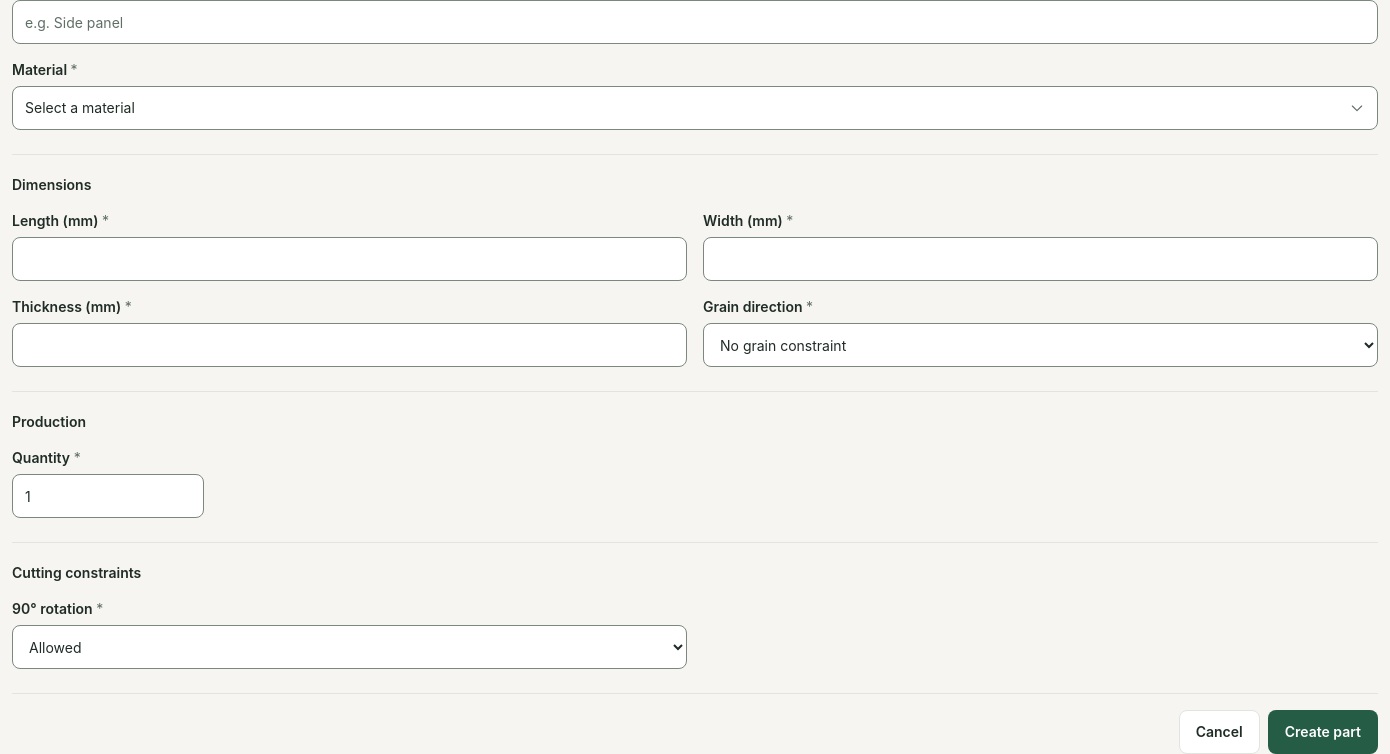
Test: Part form grain and rotation controls › groups dimensions and retains the independent rotation preference during create
(page scrolled)
Expected: the heading "Dimensions" is shown, [12,176,91,193]
Expected: the heading "Cutting constraints" is shown, [12,564,141,581]
Select "Not allowed" in the dropdown labelled "90° rotation *" at (350, 647), box [12,625,687,669]
Select "Along length" in the dropdown labelled "Grain direction *" at (1040, 345), box [703,323,1378,367]
(page scrolled)
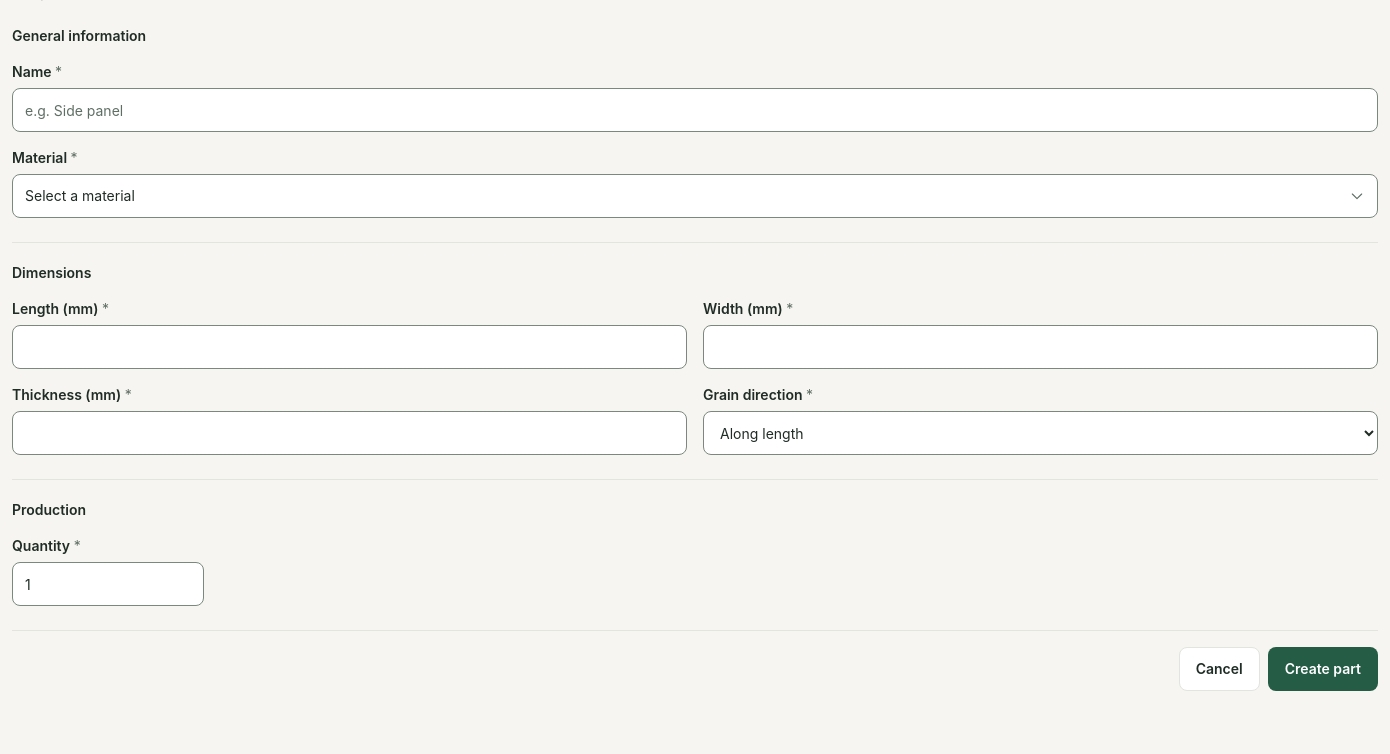
Result: the text "Cutting constraints" is gone
Select "Along width" in the dropdown labelled "Grain direction *" at (1040, 433), box [703,411,1378,455]
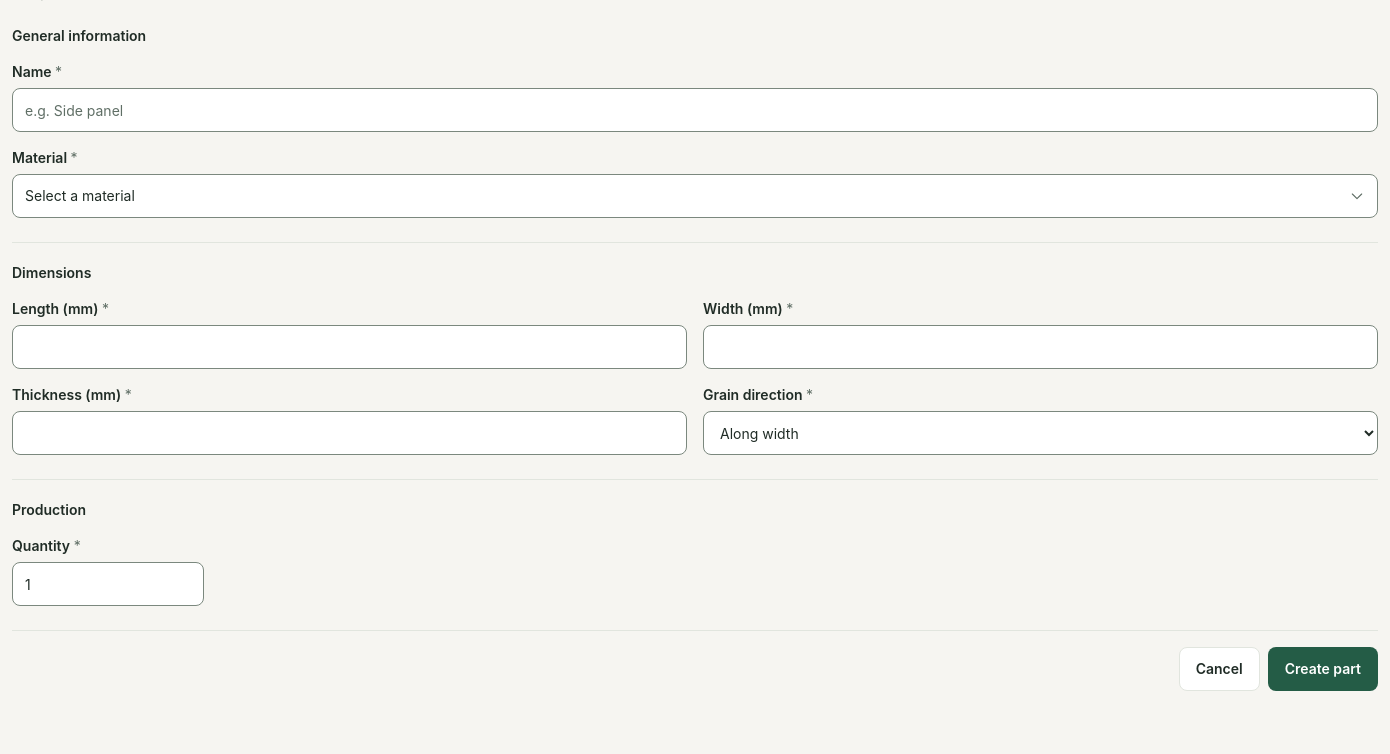
Expected: the text "Cutting constraints" is not shown
Select "No grain constraint" in the dropdown labelled "Grain direction *" at (1040, 433), box [703,411,1378,455]
(page scrolled)
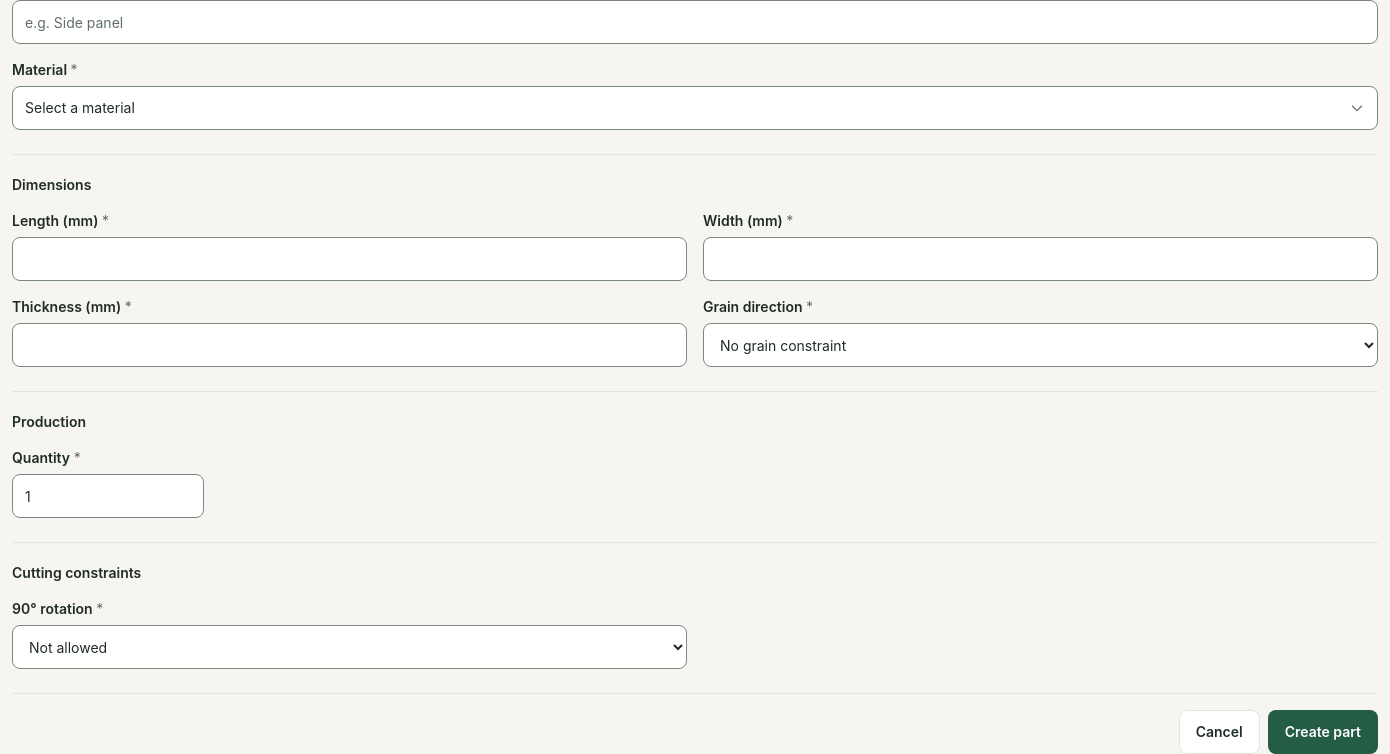
Result: the dropdown labelled "90° rotation *" shows "Not allowed"
Select "Allowed" in the dropdown labelled "90° rotation *" at (350, 647), box [12,625,687,669]
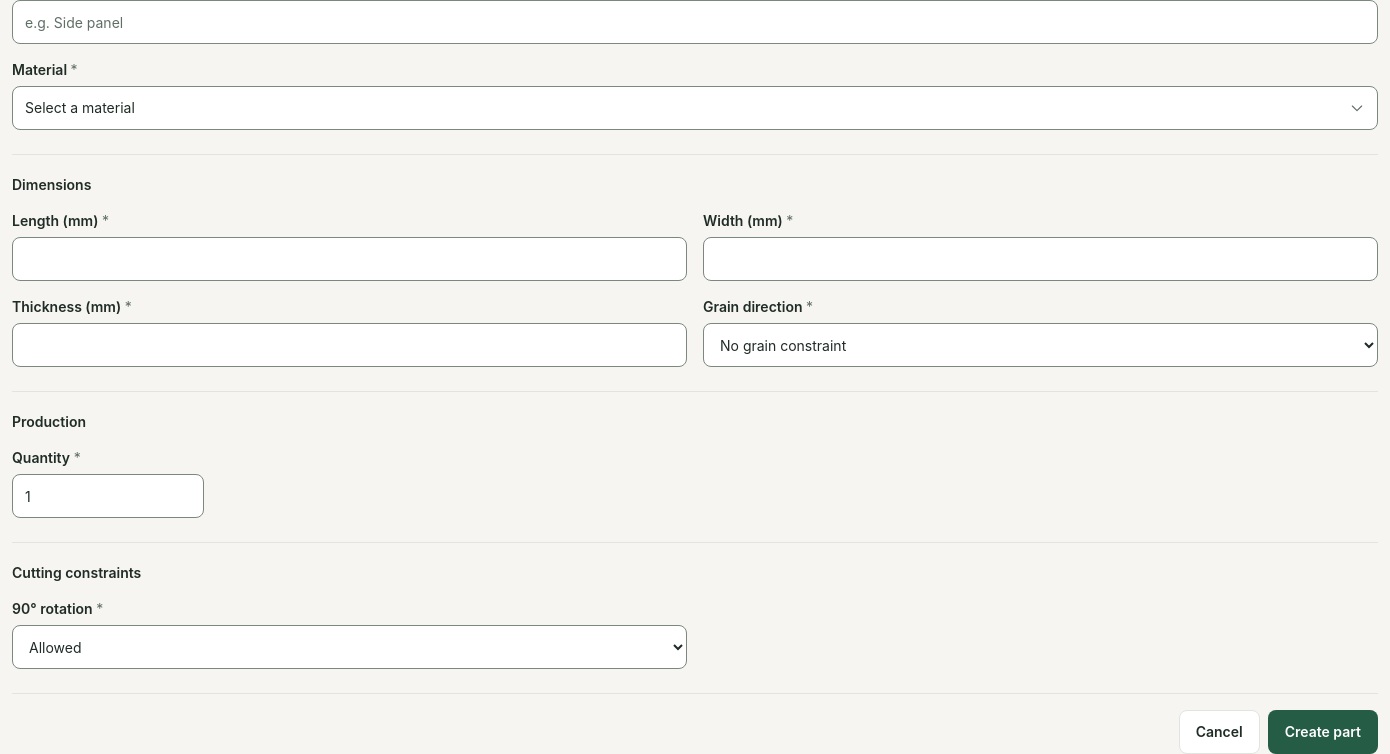
Select "Along length" in the dropdown labelled "Grain direction *" at (1040, 345), box [703,323,1378,367]
(page scrolled)
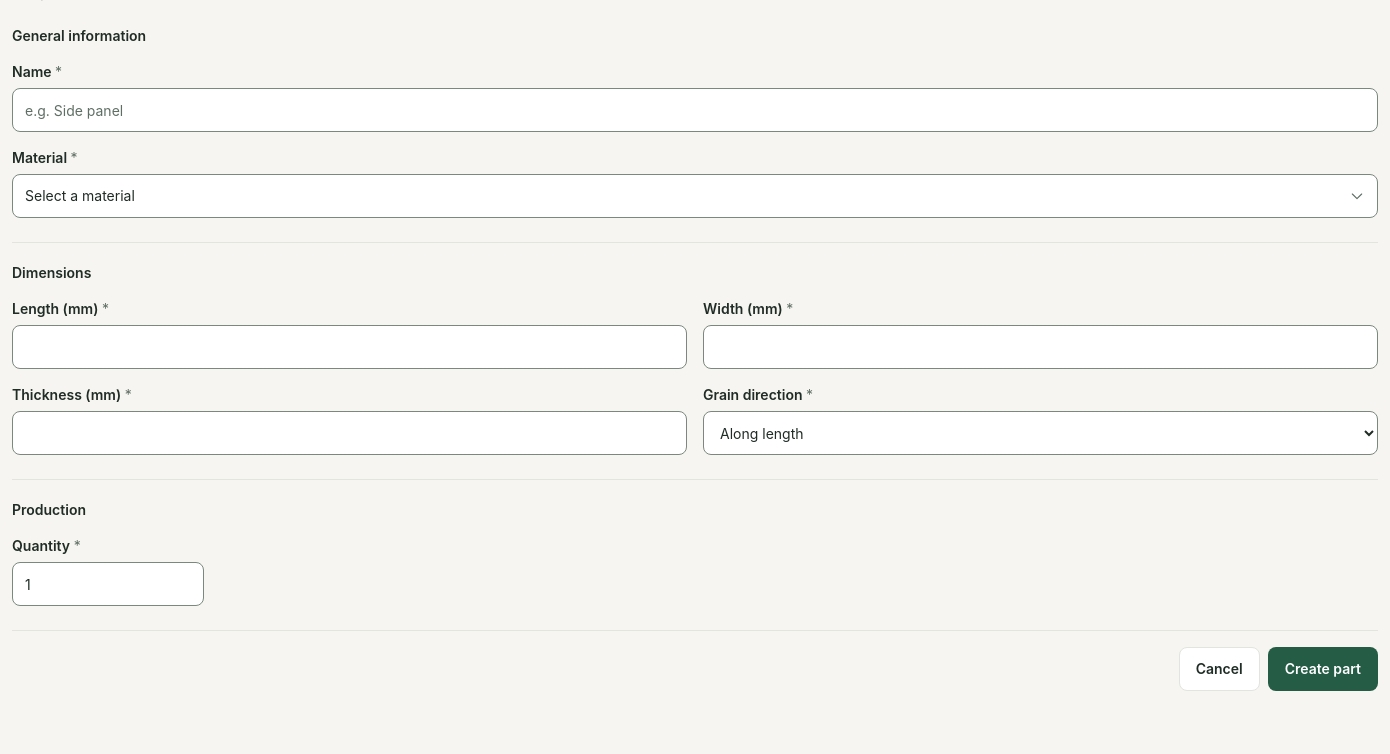
Select "No grain constraint" in the dropdown labelled "Grain direction *" at (1040, 433), box [703,411,1378,455]
(page scrolled)
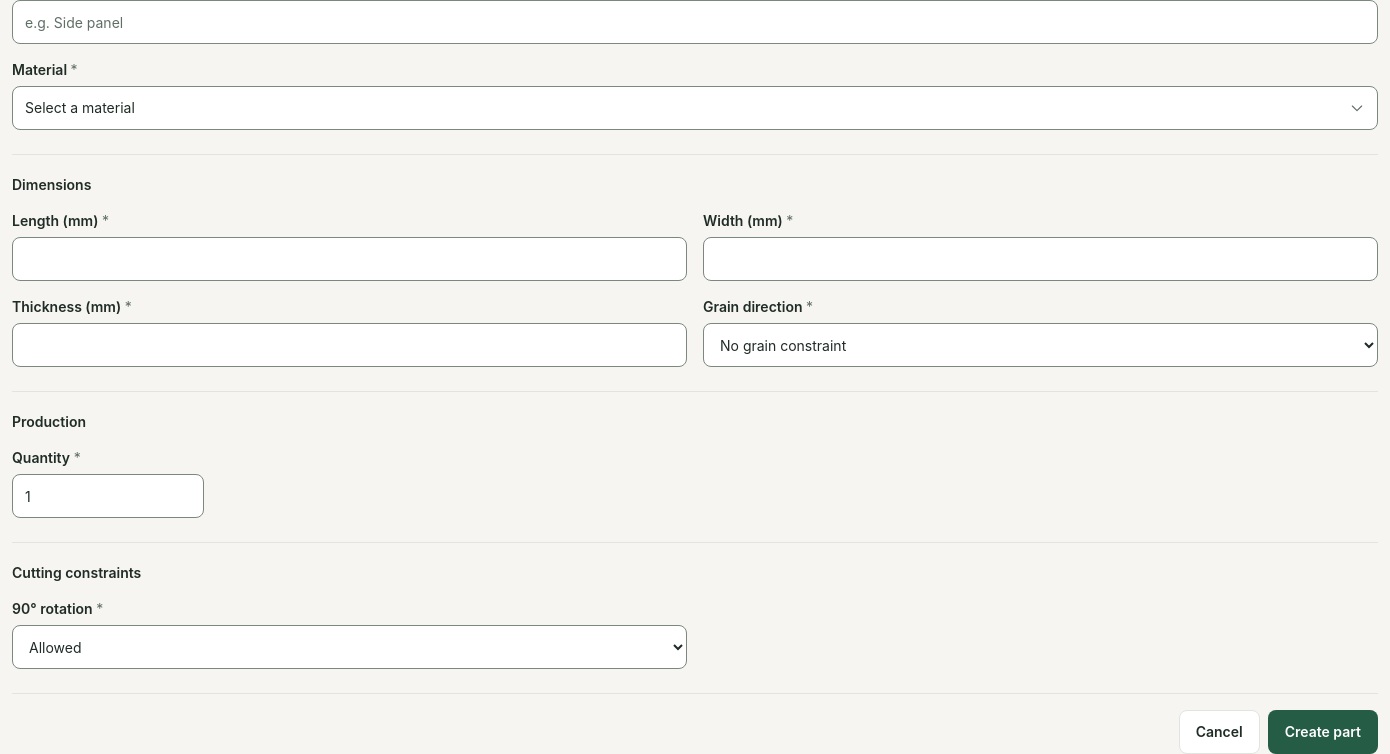
Result: the dropdown labelled "90° rotation *" shows "Allowed" at [12,625,687,669]
